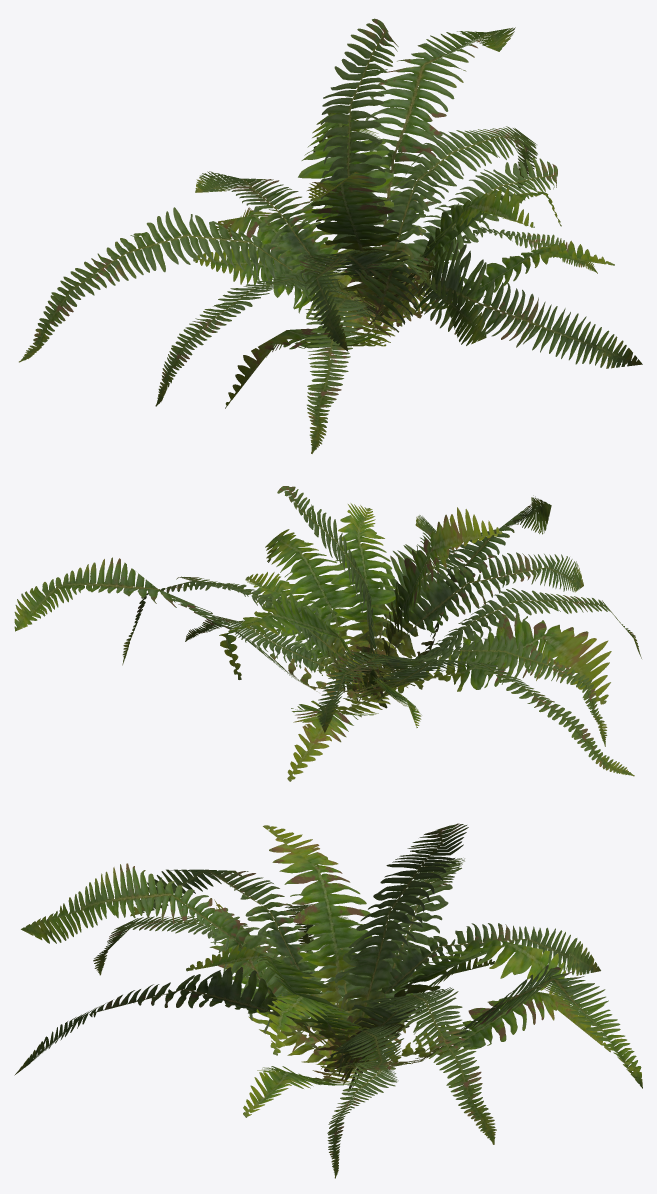
Rendered from Plant_D.glb.
The picture shows the model from 3 angles, top to bottom: view 1: azimuth 30°, elevation 25°; view 2: azimuth 150°, elevation 25°; view 3: azimuth 270°, elevation 25°; orthographic projection. The views are drawn at different scales.
Visible parts, largest first — view 1: Plant_D; view 2: Plant_D; view 3: Plant_D.
Boxes of the visible parts, bbox=[...] form: Plant_D: bbox=[19, 18, 642, 453]; Plant_D: bbox=[14, 486, 641, 781]; Plant_D: bbox=[14, 823, 642, 1178].
Size of the model in its own units: 1.02 by 0.4482 by 0.8737.
1 material, 1 textured.
